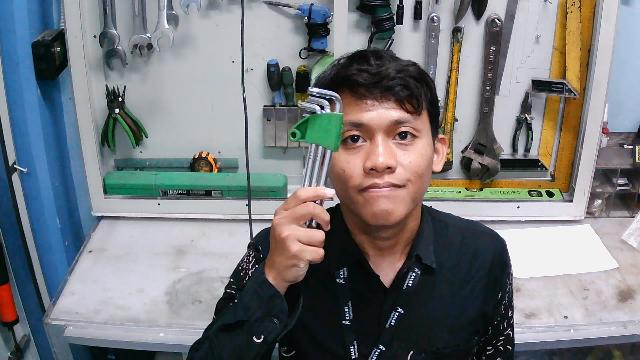kunci_l_bintang: (288, 86, 344, 252)
